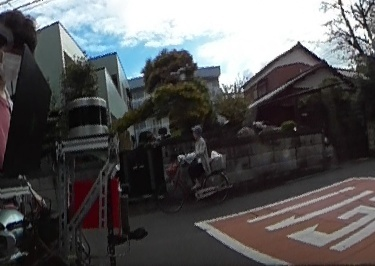person: (183, 123, 210, 190)
